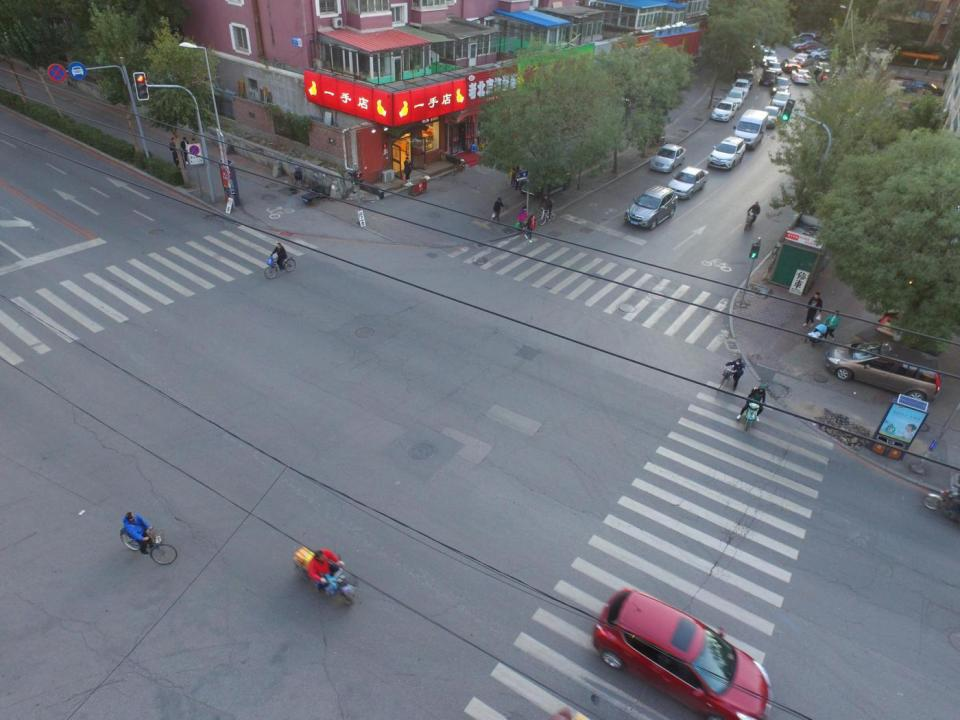car: (590, 582, 777, 720), (622, 184, 680, 229), (519, 159, 575, 196), (666, 164, 710, 201), (707, 134, 746, 171), (649, 143, 687, 173), (898, 78, 944, 100), (710, 98, 738, 123), (758, 104, 782, 130), (811, 45, 842, 64), (815, 66, 838, 89), (795, 42, 834, 55), (806, 46, 838, 61), (790, 38, 822, 52), (770, 91, 791, 112), (725, 89, 746, 109), (732, 78, 751, 100), (771, 76, 792, 95), (821, 53, 854, 65), (788, 68, 812, 84), (788, 32, 817, 45), (791, 51, 813, 68), (758, 50, 780, 67), (756, 45, 774, 63), (758, 70, 777, 87), (763, 60, 782, 77), (738, 71, 755, 90), (781, 58, 800, 74), (815, 60, 829, 72)
van: (828, 336, 940, 405), (735, 108, 769, 151)
